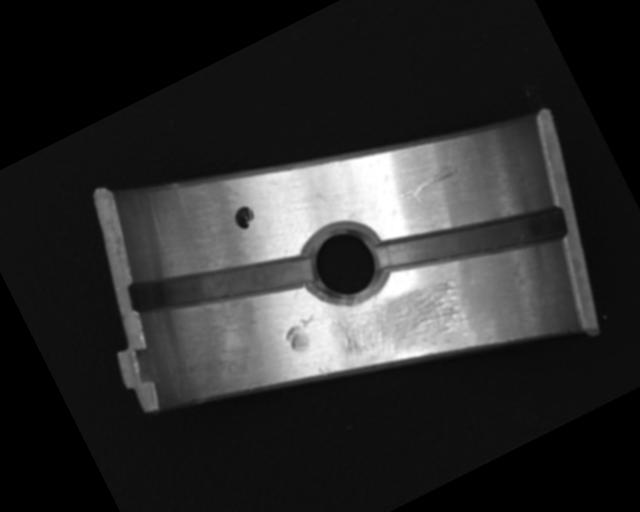blot: (230, 202, 259, 232)
bruise: (280, 312, 327, 357), (315, 361, 337, 381)
gap: (123, 207, 316, 359), (373, 167, 570, 315)
hole: (290, 207, 401, 320)
nick: (397, 160, 461, 204)
scratch: (322, 260, 481, 392)
